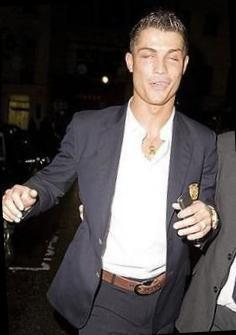Drunk: (133, 29, 181, 104)
